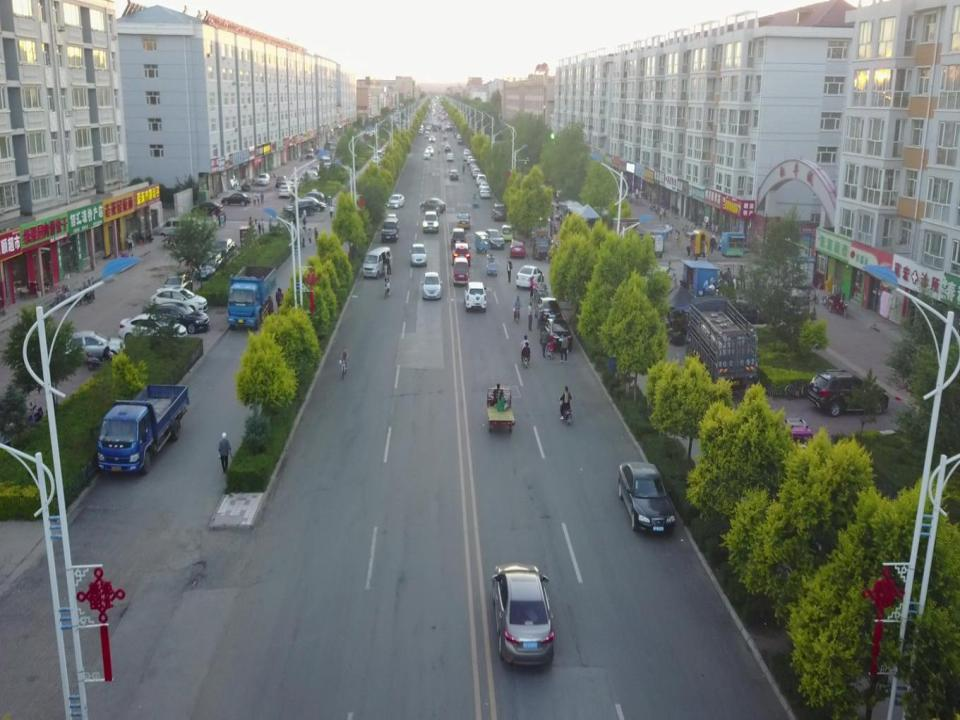car: (492, 562, 555, 665), (618, 460, 676, 535), (810, 368, 889, 416), (142, 302, 210, 333), (119, 314, 188, 344), (60, 330, 126, 360), (150, 286, 208, 314), (785, 417, 816, 462), (540, 318, 573, 350), (534, 298, 562, 326), (162, 274, 192, 300), (195, 253, 223, 280), (284, 198, 316, 219), (464, 282, 487, 310), (516, 265, 544, 288), (210, 238, 236, 262), (420, 272, 442, 299), (451, 242, 472, 266), (191, 202, 224, 217), (298, 196, 327, 212), (381, 217, 399, 242), (298, 191, 326, 207), (420, 197, 446, 214), (485, 228, 505, 249), (409, 244, 428, 266), (222, 192, 251, 206), (422, 211, 440, 232), (450, 228, 467, 250), (509, 239, 526, 258), (491, 202, 506, 222), (500, 224, 515, 242), (387, 194, 404, 209), (457, 212, 471, 229), (258, 174, 270, 186), (275, 175, 287, 187), (475, 174, 486, 186), (480, 187, 491, 198), (280, 185, 290, 197), (449, 169, 459, 180), (372, 156, 380, 168), (479, 183, 489, 192), (472, 168, 481, 178), (375, 151, 383, 161), (426, 146, 434, 154), (428, 136, 436, 143), (423, 151, 430, 159), (447, 152, 453, 161), (457, 137, 463, 144), (456, 134, 462, 141), (444, 145, 450, 151)
truck: (96, 382, 188, 475), (686, 296, 758, 390), (227, 264, 276, 330)
van: (361, 246, 392, 278), (783, 287, 810, 319), (159, 218, 189, 236), (452, 257, 469, 285), (302, 170, 321, 182), (319, 156, 331, 170), (323, 141, 336, 150), (307, 148, 314, 157)
